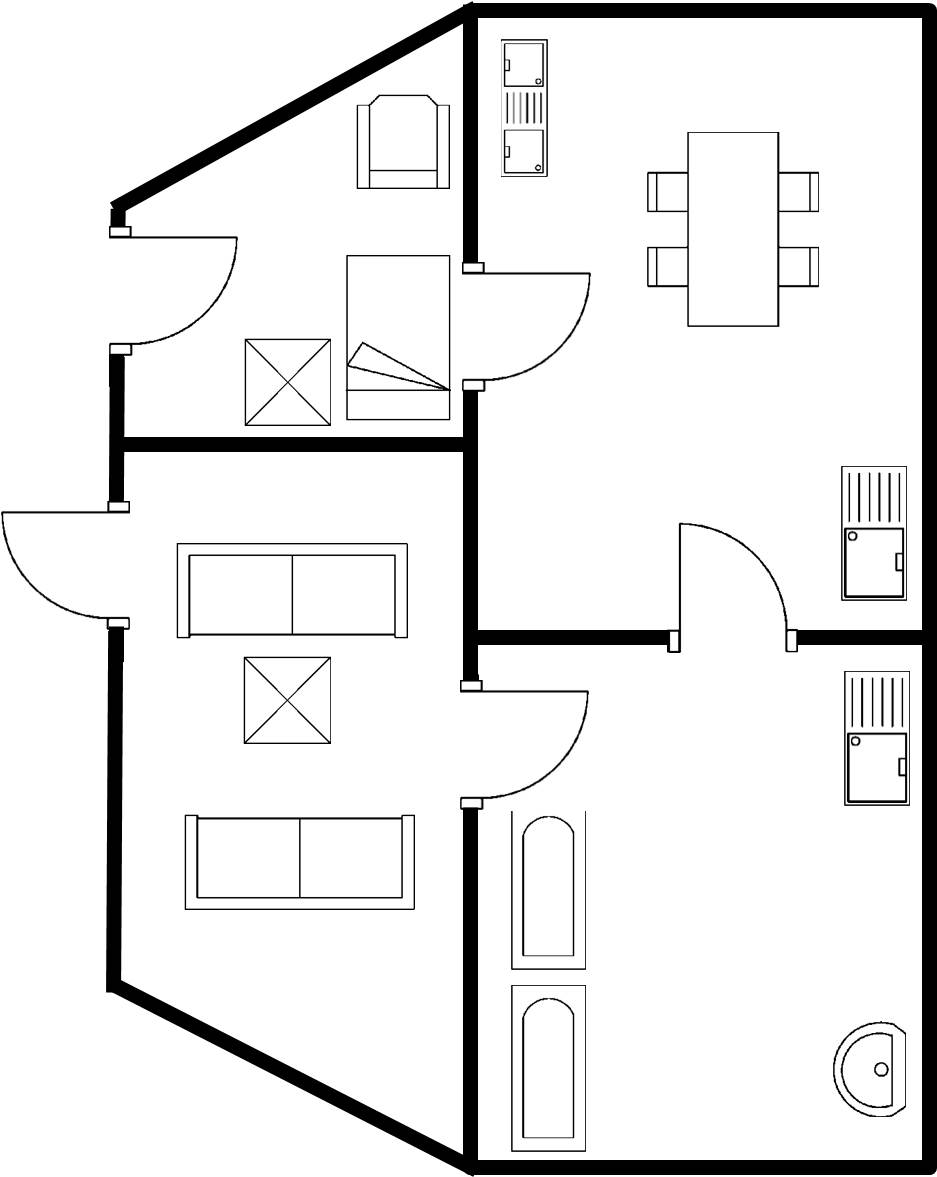armchair: (349, 88, 459, 197)
bed: (339, 244, 457, 432)
coffee_table: (232, 649, 345, 755), (234, 332, 336, 432)
dining_table: (634, 123, 830, 339)
large_sofa: (166, 535, 419, 650), (179, 809, 426, 918)
sink: (833, 461, 916, 611), (838, 665, 915, 812)
small_sink: (824, 1015, 913, 1125)
tub: (499, 979, 601, 1156), (501, 802, 602, 979)
twin_sink: (493, 31, 558, 187)
